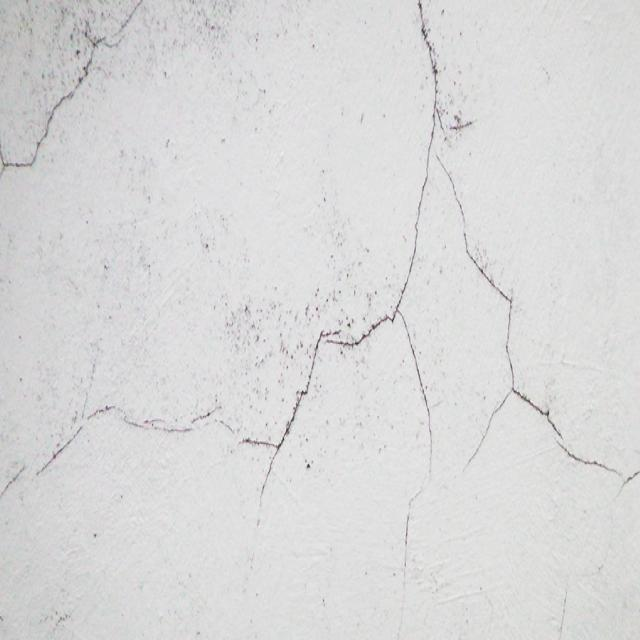Wall_Cracks: (3, 6, 640, 564)
